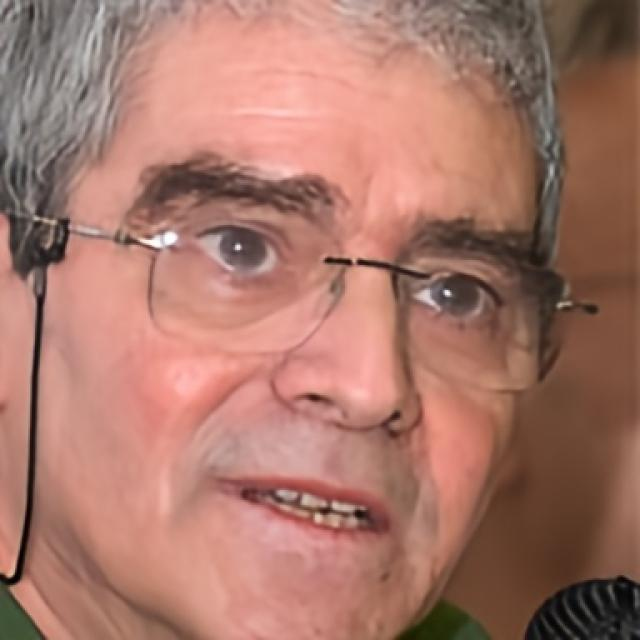fear: (17, 0, 541, 640)
